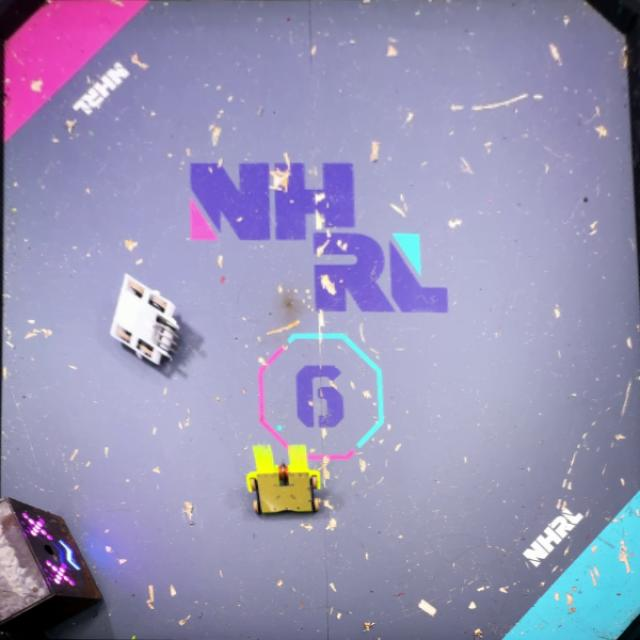housebot: (0, 495, 103, 640)
robot: (108, 272, 182, 370), (248, 444, 324, 515)
